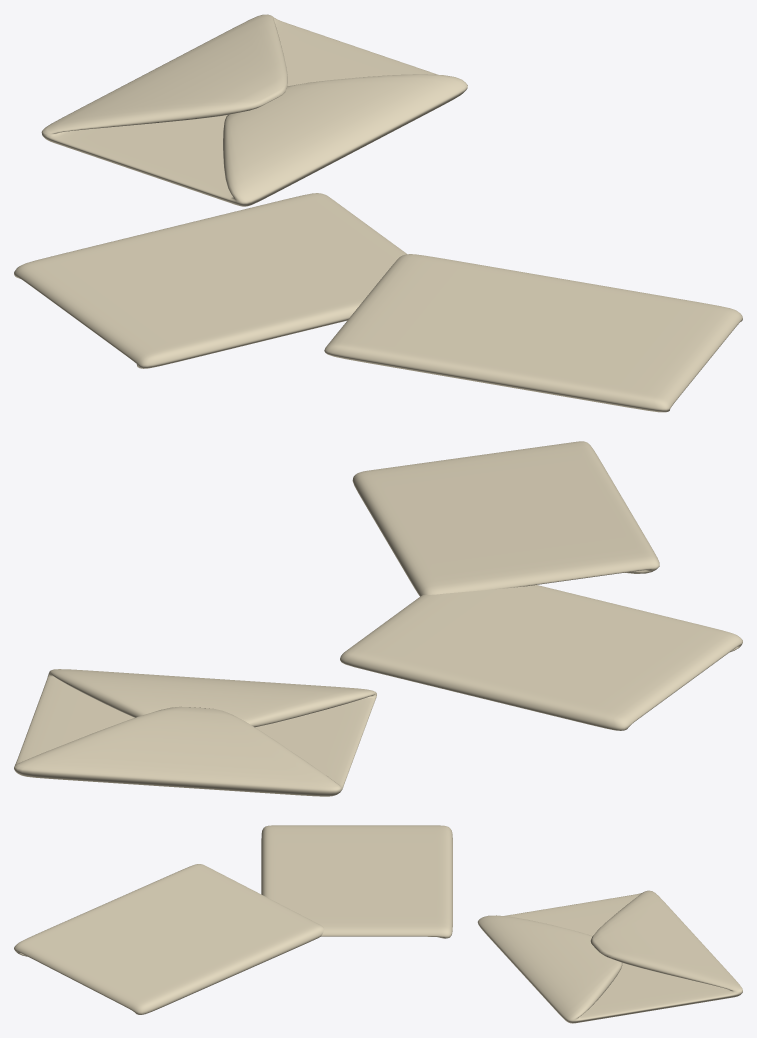
File: rua_envelope_02.glb
3 renders of one model, top to bottom at view 1: azimuth 30°, elevation 25°; view 2: azimuth 150°, elevation 25°; view 3: azimuth 270°, elevation 25°, orthographic. The views are drawn at different scales.
Parts seen in each view (by area): view 1: SM_Envelope_02; view 2: SM_Envelope_02; view 3: SM_Envelope_02.
Part boxes in pixels (x1=…): SM_Envelope_02: x1=14, y1=14, x2=742, y2=412; SM_Envelope_02: x1=14, y1=441, x2=742, y2=796; SM_Envelope_02: x1=14, y1=825, x2=742, y2=1023.
Size of what is drawn, in the model's own units: 0.3737 by 0.027 by 0.6121.
